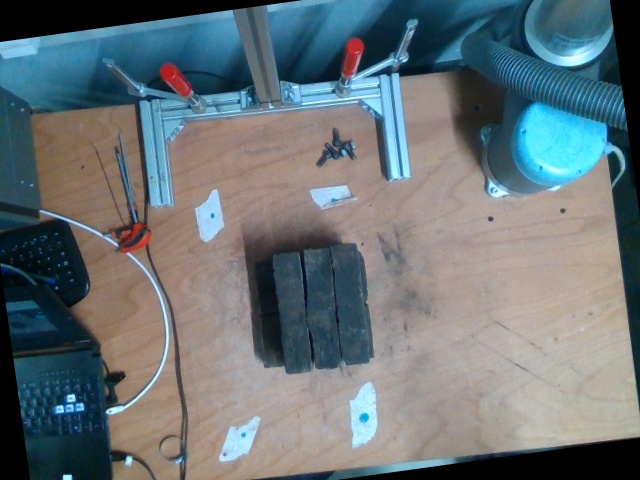brick-side: (275, 252, 310, 372), (332, 245, 367, 364), (304, 250, 339, 369)
